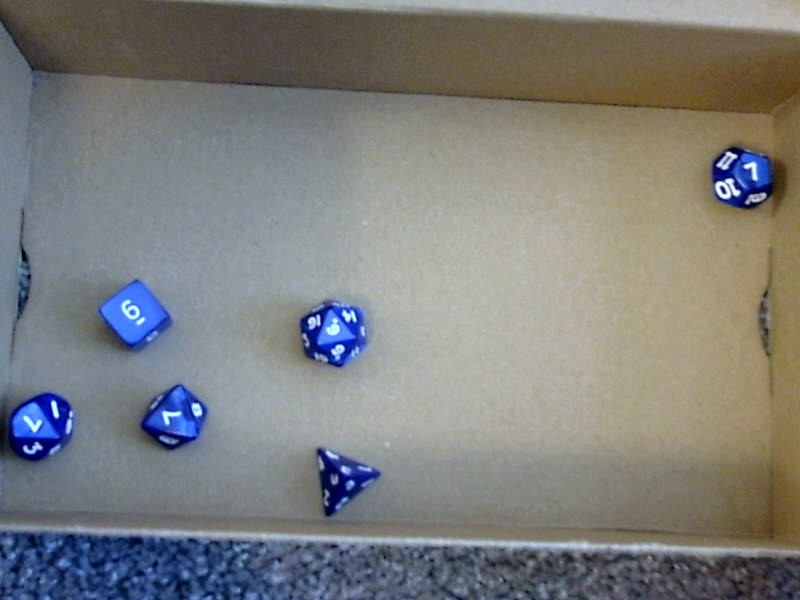d10 7: (5, 391, 80, 466)
d12 7: (704, 146, 775, 210)
d20 6: (288, 294, 371, 370)
d4 3: (305, 435, 381, 518)
d6 6: (90, 271, 174, 354)
d8 7: (139, 379, 209, 454)
